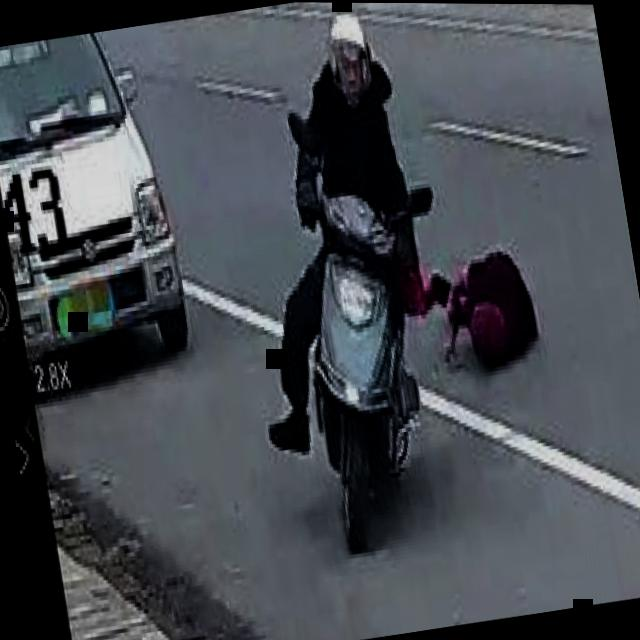Fall-Detected: (414, 210, 554, 387)
